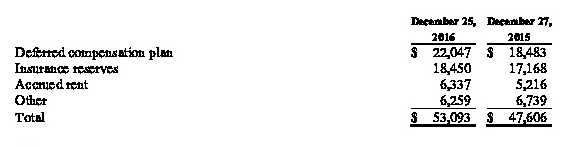table: (0, 0, 572, 147)
